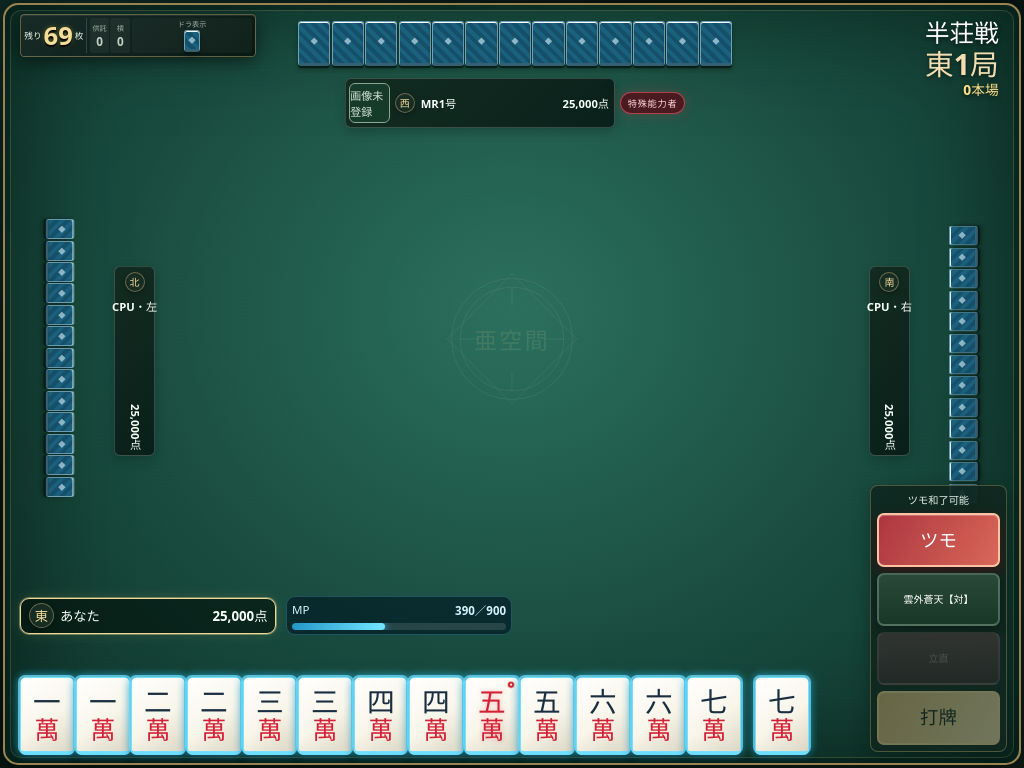
Test: 4-21の画面操作 › 発動で330MP消費し同じ手番の発動ボタンを消す
What coordinates should you click on to do the following:
click the button "雲外蒼天【対】"
I would click on:
 (938, 599)
Its box is [877, 572, 1000, 626].
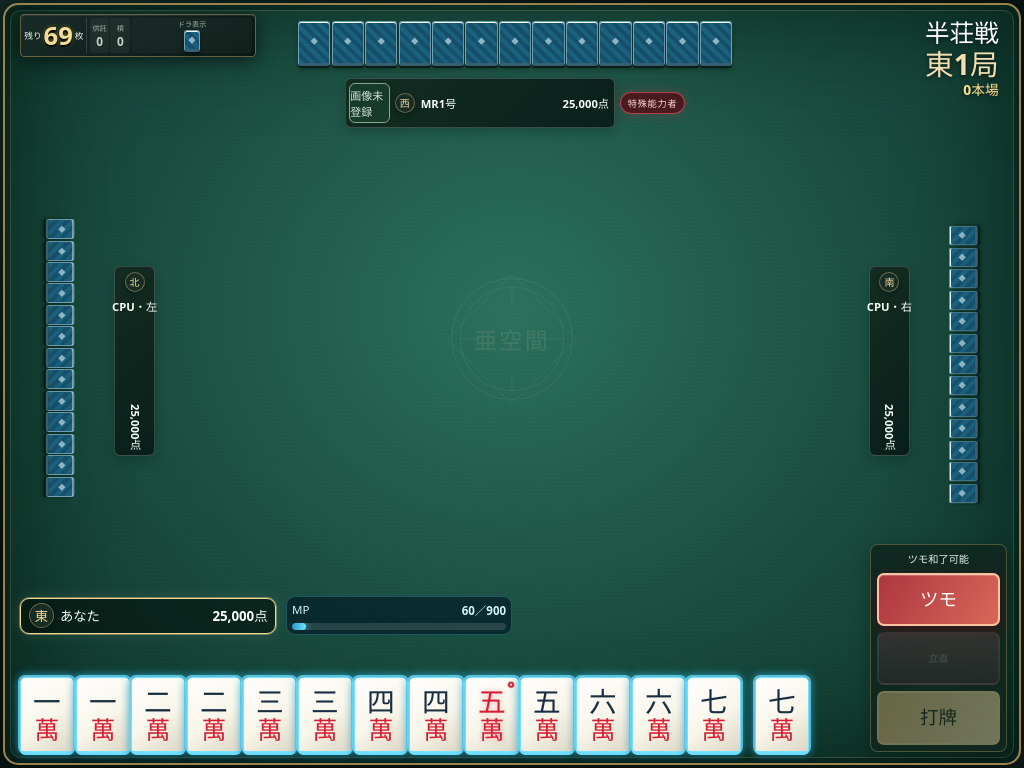
Expected: the button "打牌" is shown, [877, 691, 1000, 745]
Result: the button "雲外蒼天【対】" is gone
